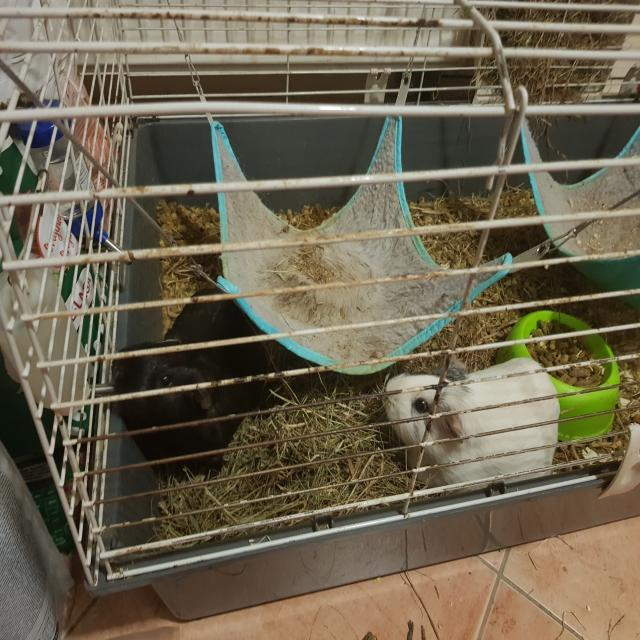guinea pig: (109, 285, 281, 481), (378, 356, 561, 491)
